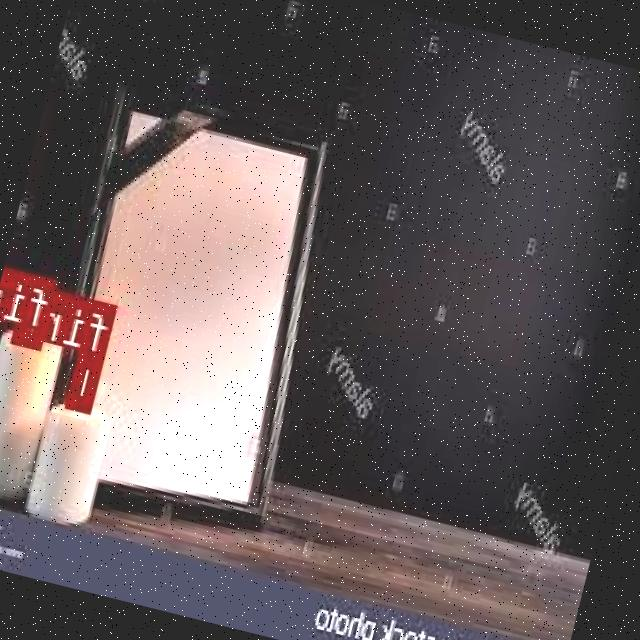fire: (14, 273, 60, 346), (68, 350, 106, 410)
